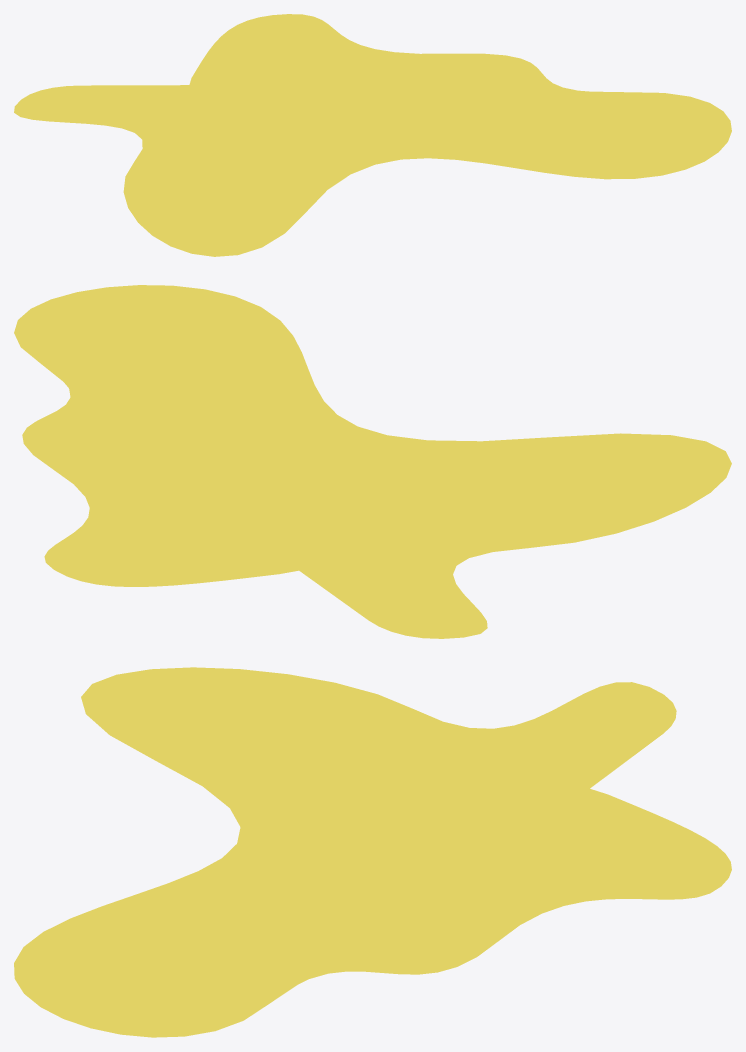
File: plama3.fbx
3 renders of one model, top to bottom at view 1: azimuth 30°, elevation 25°; view 2: azimuth 150°, elevation 25°; view 3: azimuth 270°, elevation 25°, orthographic. The views are drawn at different scales.
Visible parts, largest first — view 1: plama3; view 2: plama3; view 3: plama3.
Boxes of the visible parts, x1,y1,x2,y2 form: plama3: (14,14,731,256); plama3: (14,285,731,638); plama3: (14,667,731,1037).
Bounding box in the file's own units: 270 × 3.6e-05 × 221.
